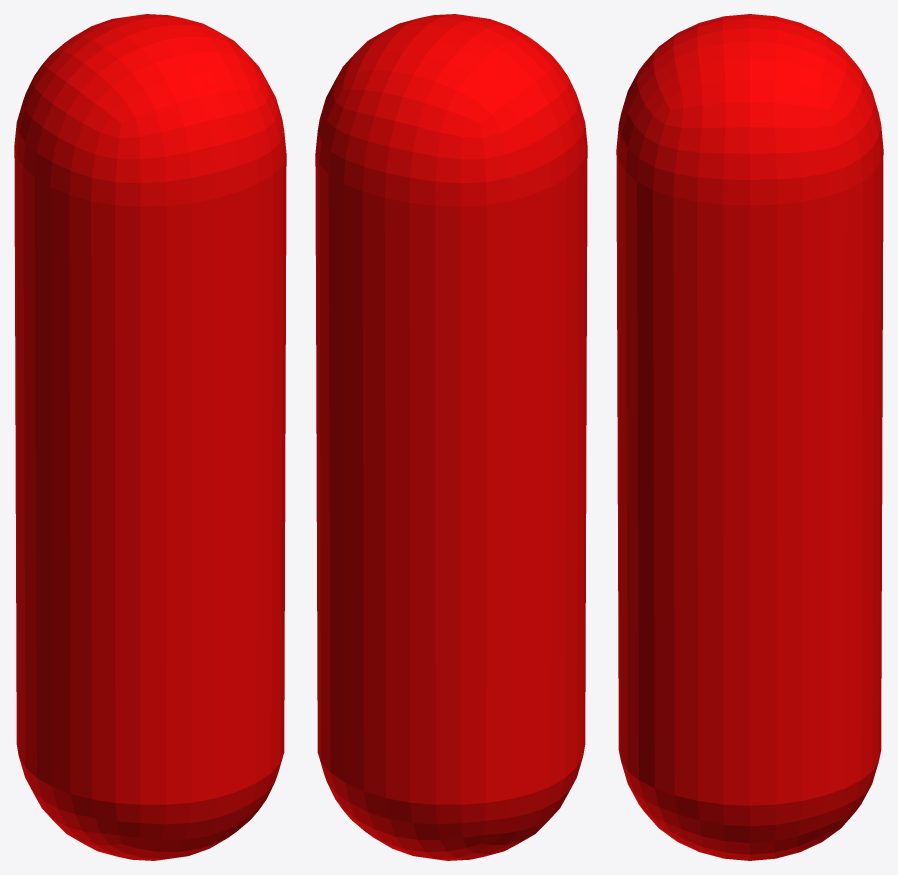
The model's file is bullet 1.fbx.
3 renders of one model, left to right at view 1: azimuth 30°, elevation 25°; view 2: azimuth 150°, elevation 25°; view 3: azimuth 270°, elevation 25°, orthographic.
Visible parts, largest first — view 1: bullet; view 2: bullet; view 3: bullet.
Boxes of the visible parts, x1,y1,x2,y2 form: bullet: (14, 14, 286, 860); bullet: (315, 14, 587, 860); bullet: (616, 14, 883, 860).
Bounding box in the file's own units: 0.3228 × 1.09 × 0.3228.
